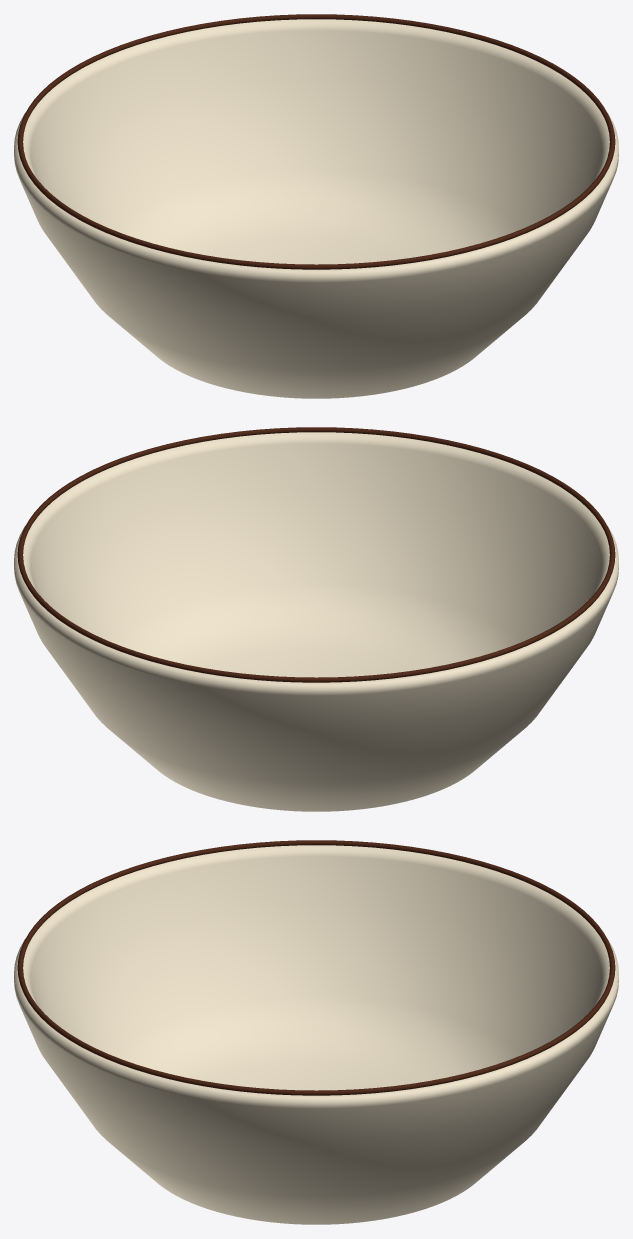
Rendered from bowl.glb.
3 renders of one model, top to bottom at view 1: azimuth 30°, elevation 25°; view 2: azimuth 150°, elevation 25°; view 3: azimuth 270°, elevation 25°, orthographic.
Bounding box in the file's own units: 2.86 × 1.02 × 2.86.
